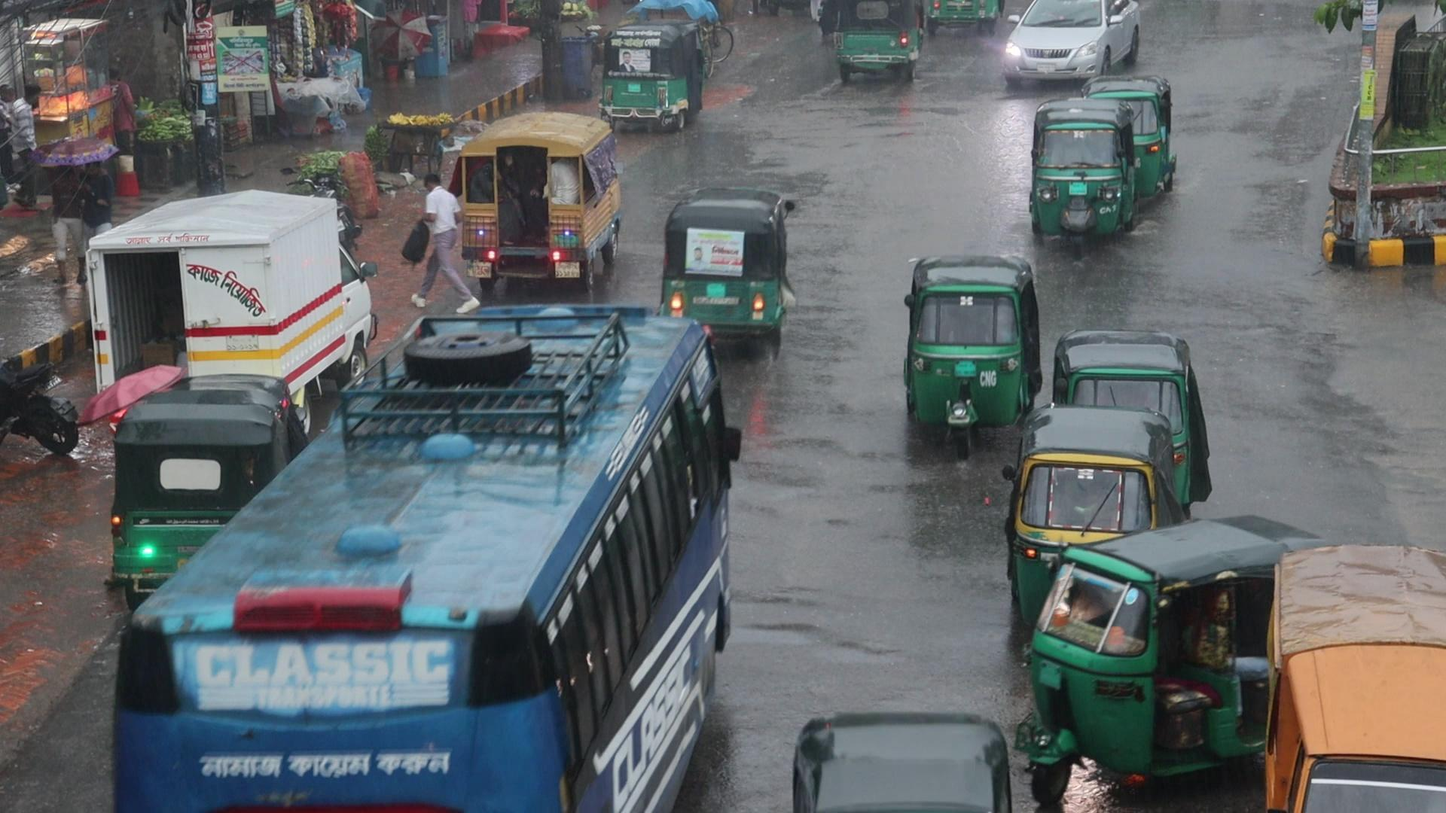Bus: (107, 302, 743, 813)
Car: (1001, 0, 1140, 82)
Truck: (458, 110, 622, 294)
